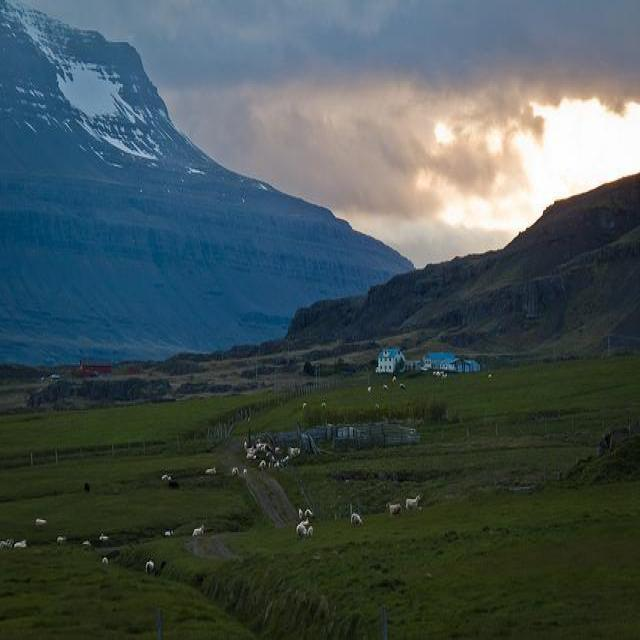Sheep: (2, 361, 496, 556)
